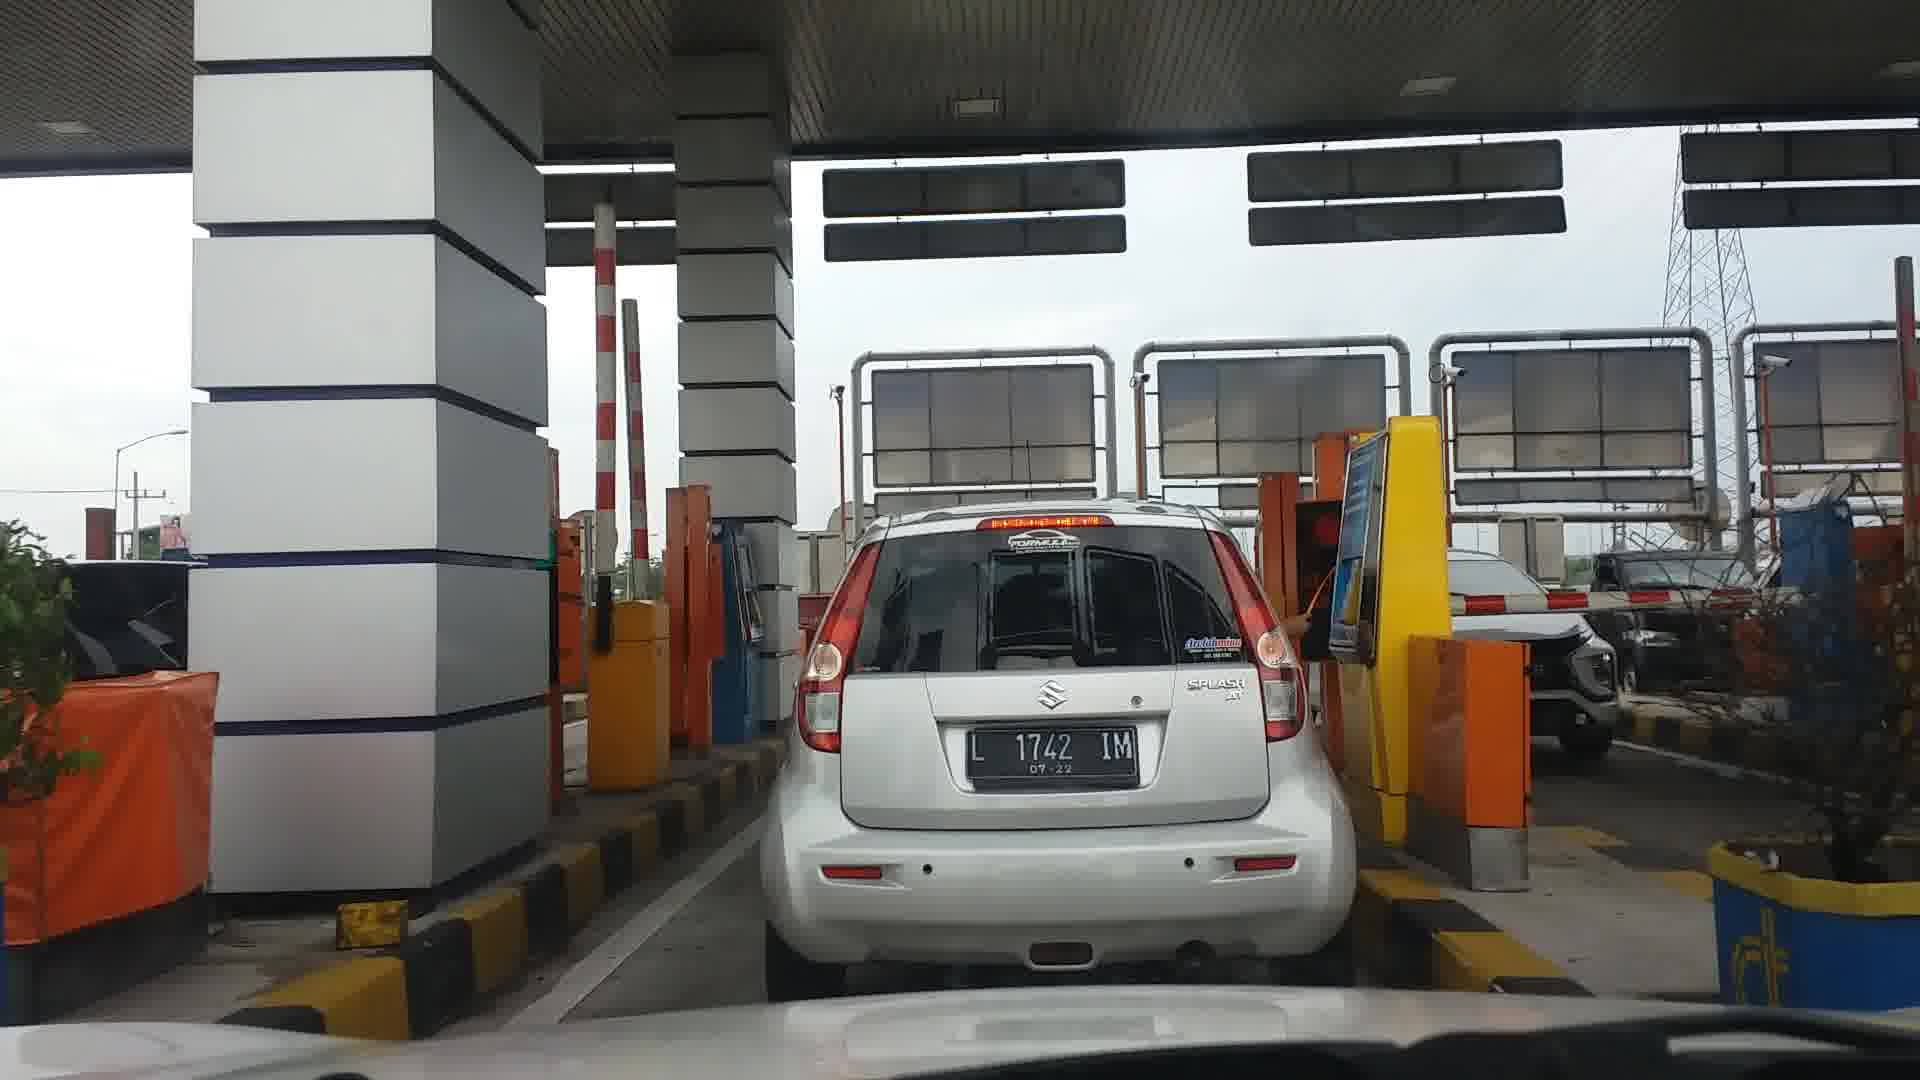plate_positive: (964, 727, 1139, 791)
